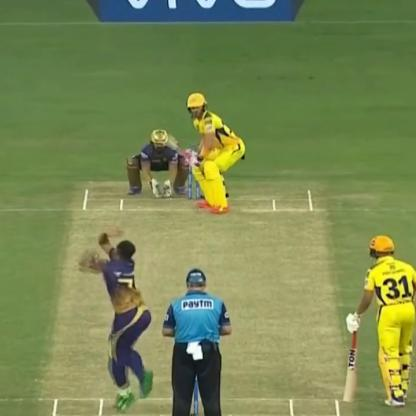bat: (152, 127, 198, 169)
pitch: (46, 183, 347, 416)
